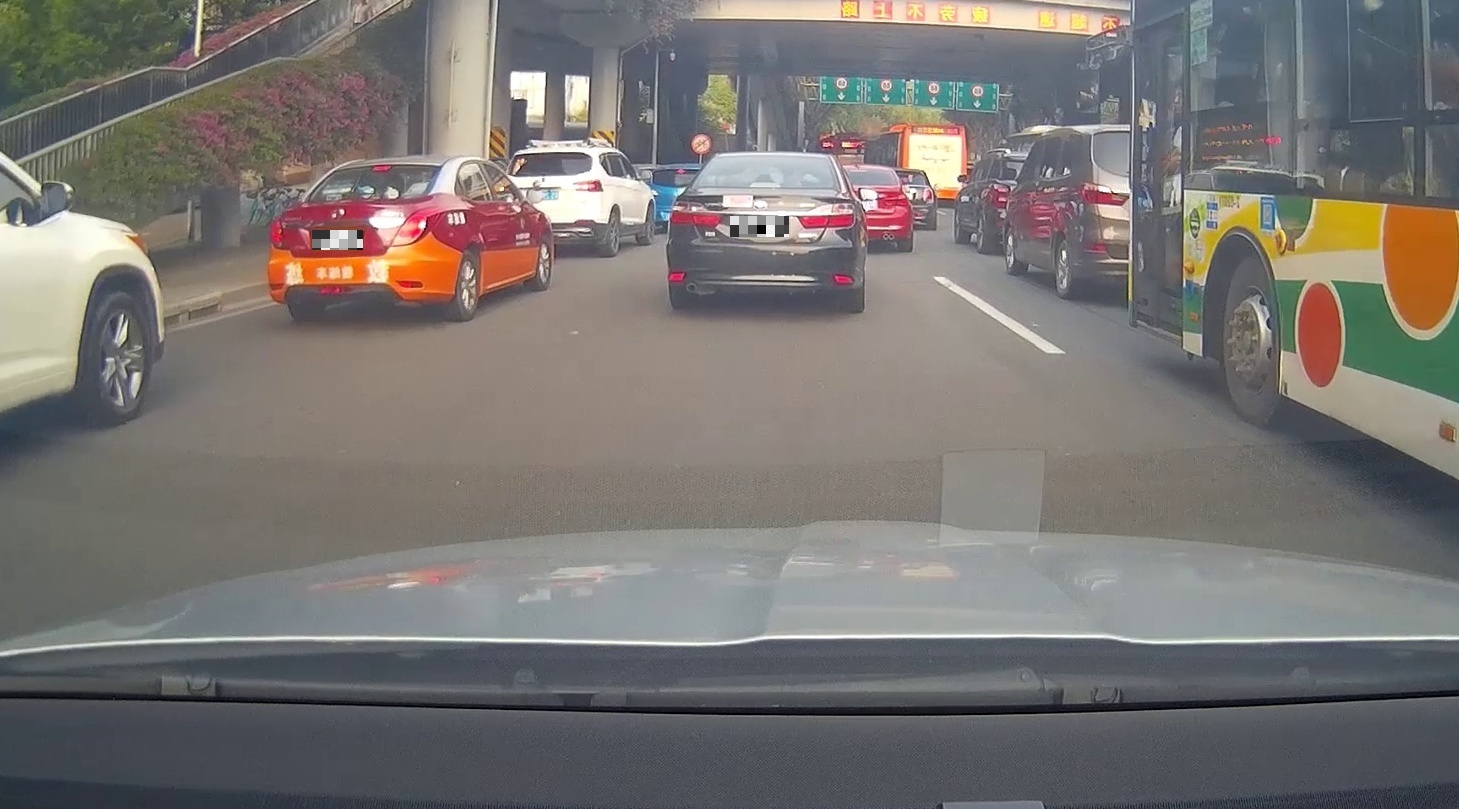L_light: (668, 200, 721, 227), (269, 218, 284, 251)
R_light: (390, 207, 448, 248), (797, 202, 855, 230)
T_light: (749, 182, 781, 188), (370, 164, 391, 171)
day-brake: (266, 159, 459, 323)
day-no: (664, 152, 864, 312)
plate_1: (312, 230, 363, 250)
plate_2: (730, 216, 789, 237)
